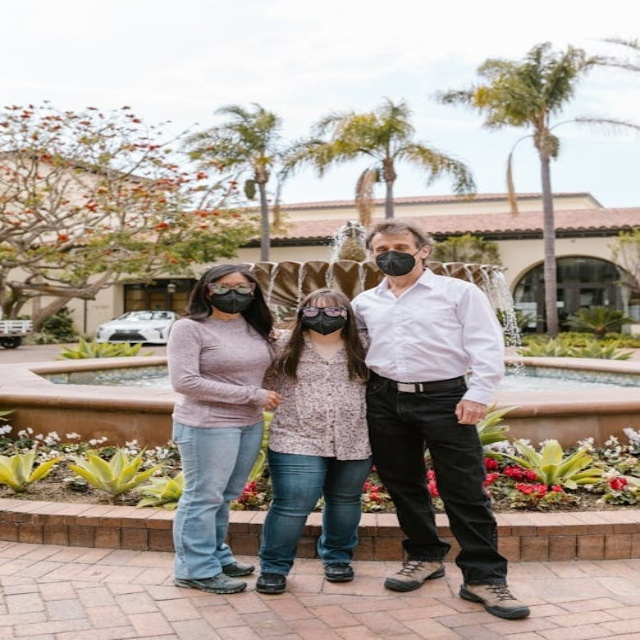Mascara: (301, 309, 347, 335), (374, 250, 419, 276), (209, 289, 254, 314)
Sin_gafas: (367, 241, 416, 253)
Sin_guantes: (449, 399, 493, 427), (264, 389, 285, 413)
